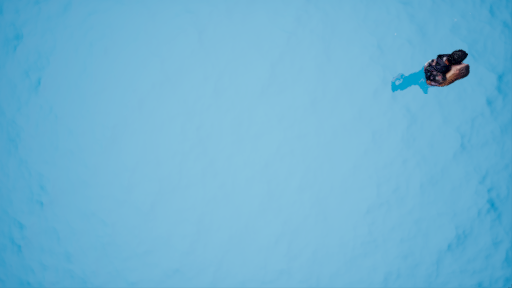person: (389, 47, 473, 99)
